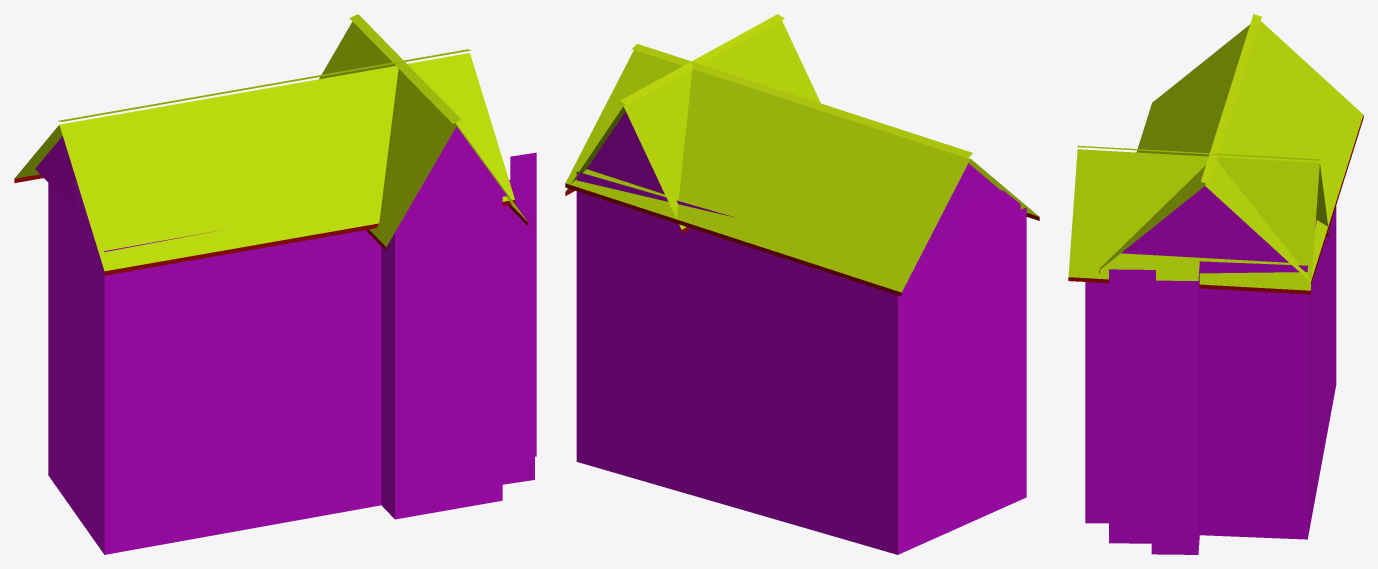
Rendered from bgj_283.glb.
3 renders of one model, left to right at view 1: azimuth 30°, elevation 25°; view 2: azimuth 150°, elevation 25°; view 3: azimuth 270°, elevation 25°, orthographic. The views are drawn at different scales.
Visible parts, largest first — view 1: bgj_283; view 2: bgj_283; view 3: bgj_283.
Boxes of the visible parts, bbox=[...] form: bgj_283: bbox=[14, 14, 536, 554]; bgj_283: bbox=[565, 14, 1039, 554]; bgj_283: bbox=[1068, 14, 1363, 554].
Size of the model in its own units: 12.52 by 10.91 by 8.19.
